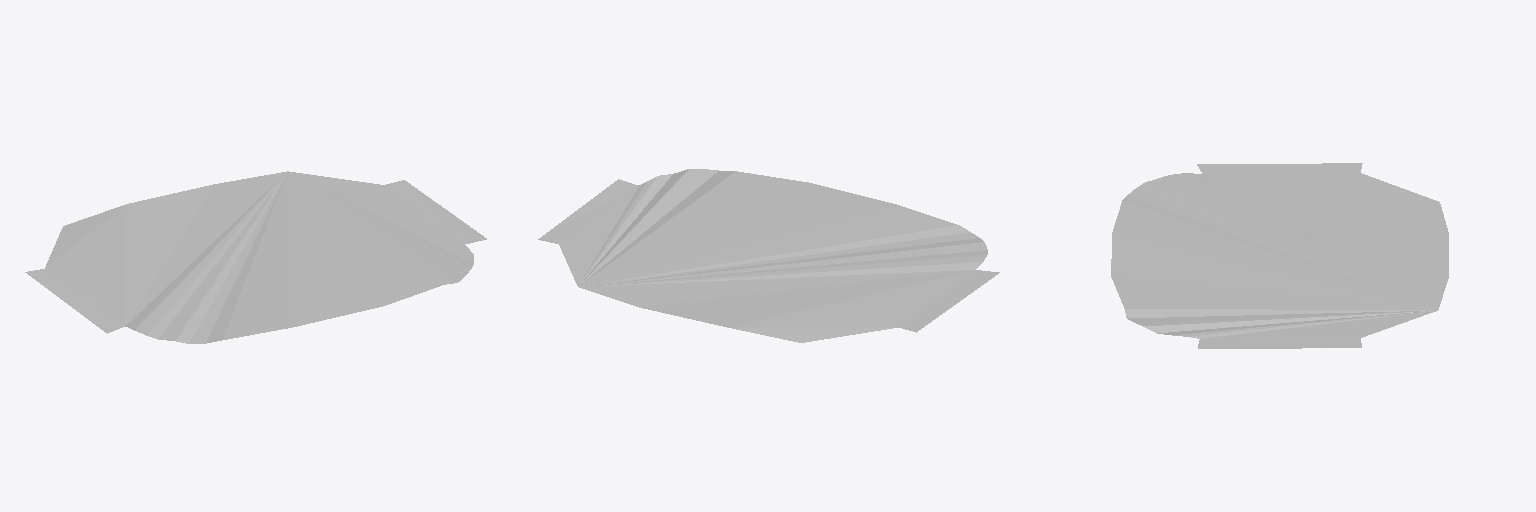
Rendered from original-5.obj.
The picture shows the model from 3 angles: view 1: azimuth 30°, elevation 25°; view 2: azimuth 150°, elevation 25°; view 3: azimuth 270°, elevation 25°; orthographic projection.
Parts seen in each view (by area): view 1: mesh5/mesh5-geometry#mesh5-geometry; view 2: mesh5/mesh5-geometry#mesh5-geometry; view 3: mesh5/mesh5-geometry#mesh5-geometry.
Boxes of the visible parts, x1=… form: mesh5/mesh5-geometry#mesh5-geometry: x1=25, y1=171, x2=486, y2=343; mesh5/mesh5-geometry#mesh5-geometry: x1=538, y1=169, x2=999, y2=342; mesh5/mesh5-geometry#mesh5-geometry: x1=1111, y1=163, x2=1448, y2=348.
Size of the model in its own units: 0.0277 by 0.0002 by 0.0213.